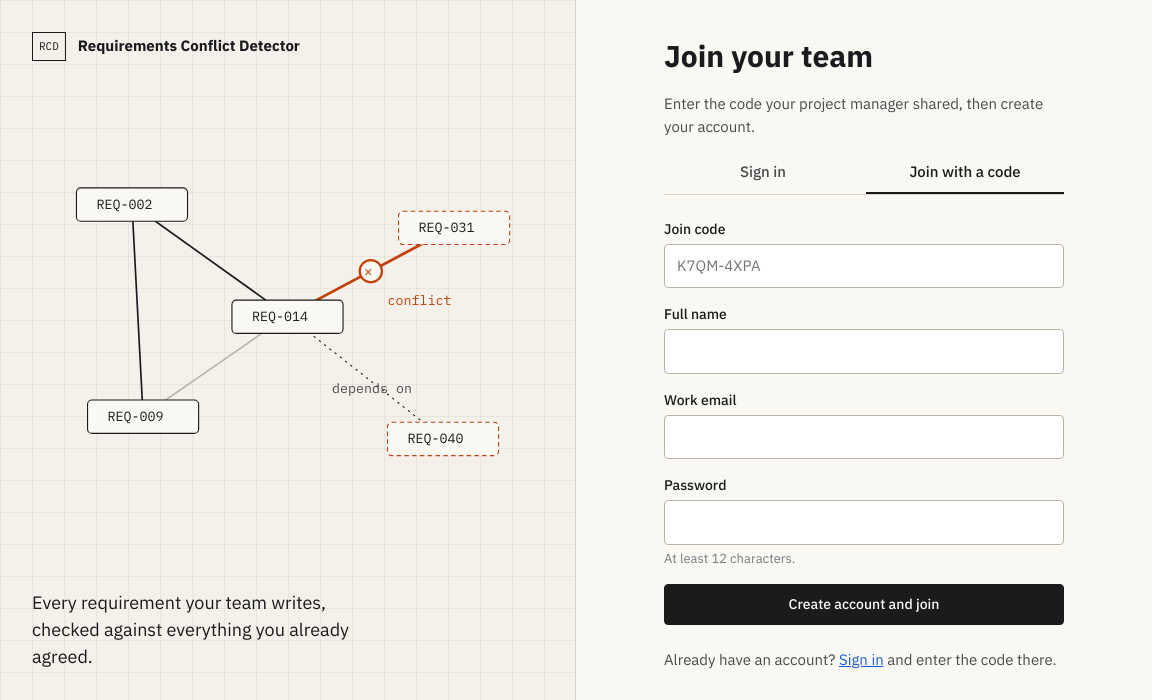
Test: SignupWithCodePage › shows the one refusal message for a bad code
This screenshot has width=1152, height=700.
Type "ZZZZ-ZZZZ" into the field labelled "Join code" at (864, 266), box [664,244,1064,288]
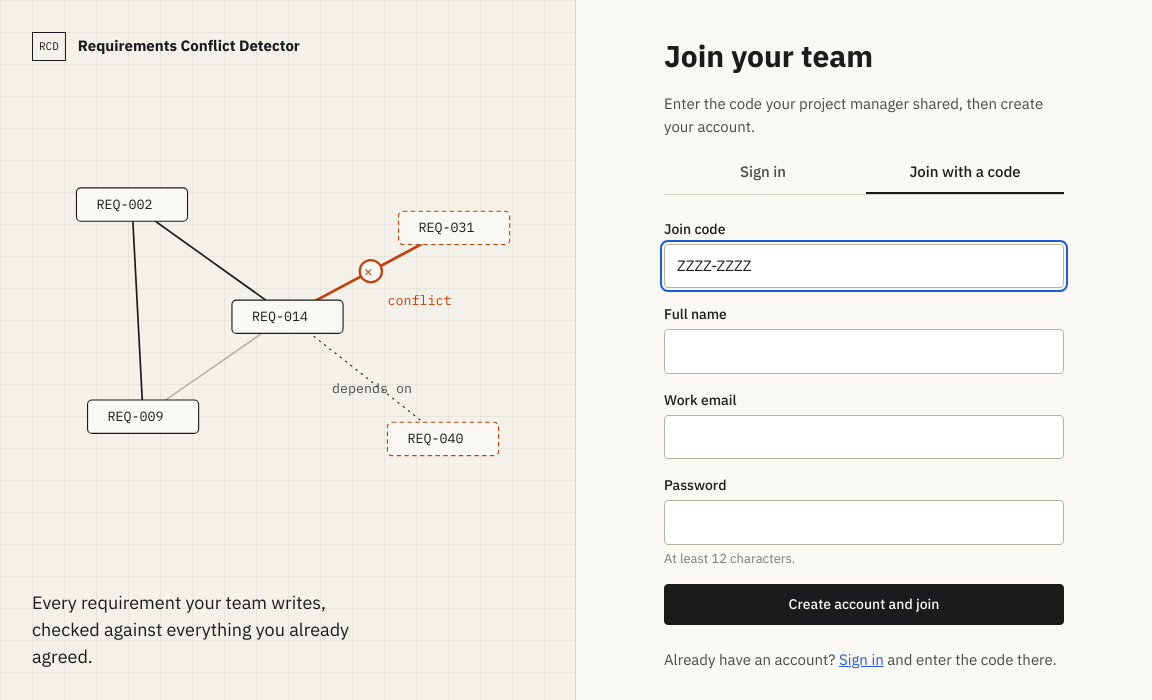
Type "N" into the field labelled "Full name" at (864, 352), box [664,329,1064,374]
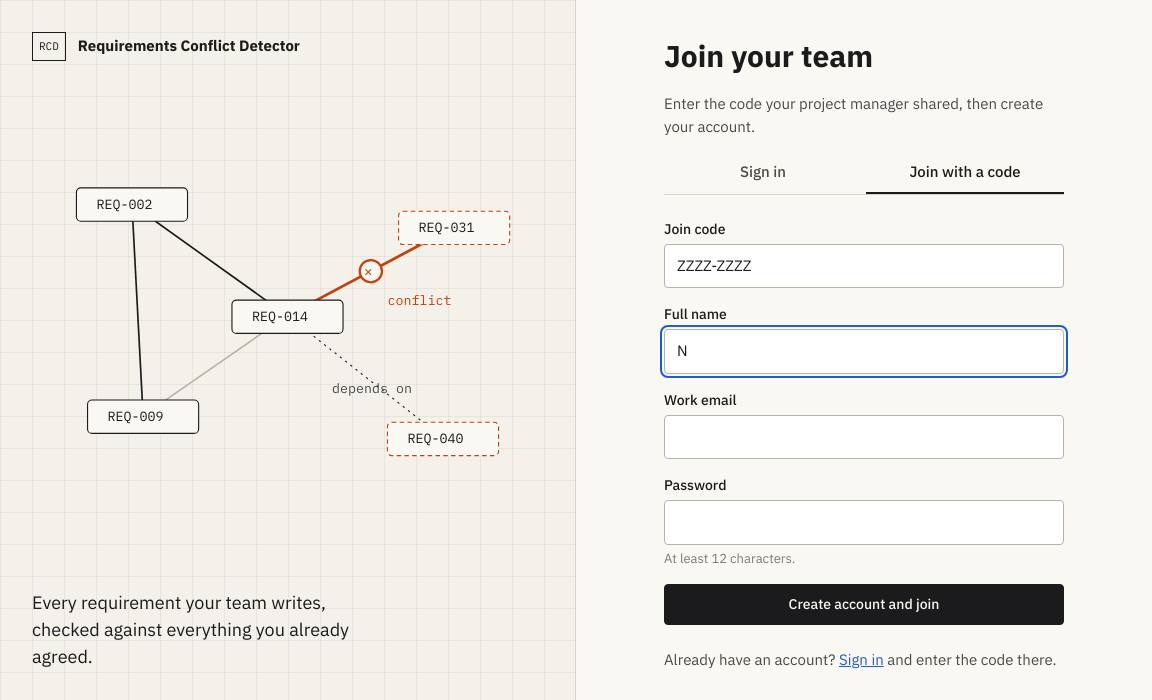
Type "n@acme.in" into the field labelled "Work email" at (864, 437), box [664,415,1064,459]
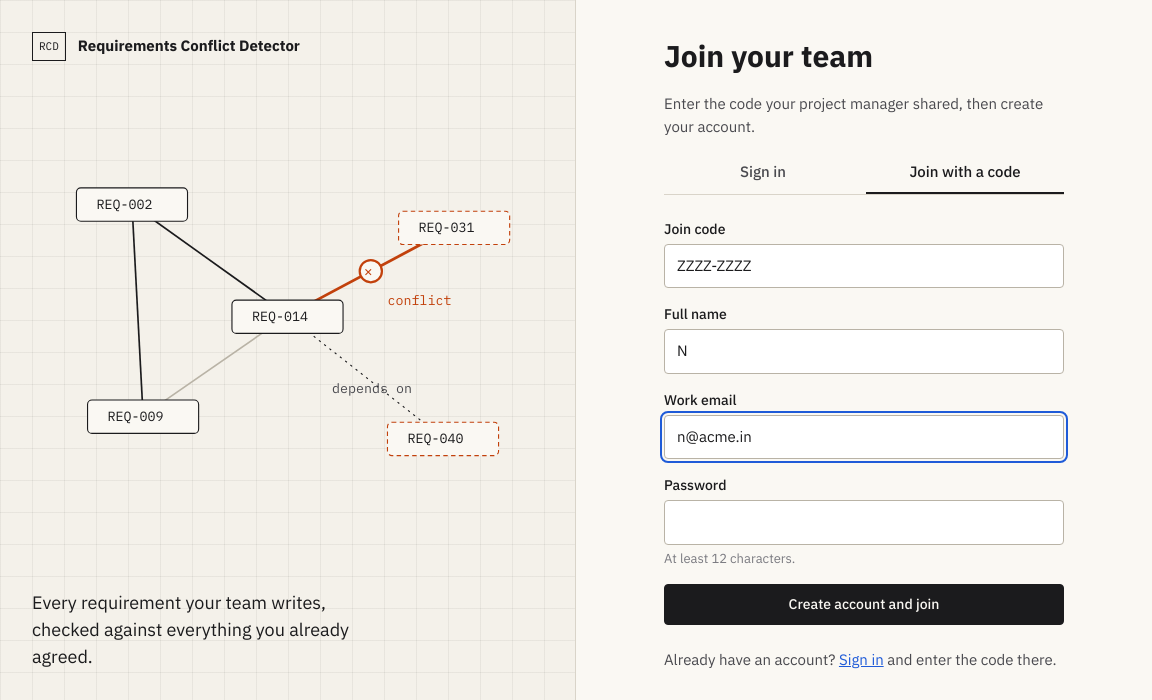
Type "correct-horse-battery" into the password field labelled "Password" at (864, 523), box [664,500,1064,545]
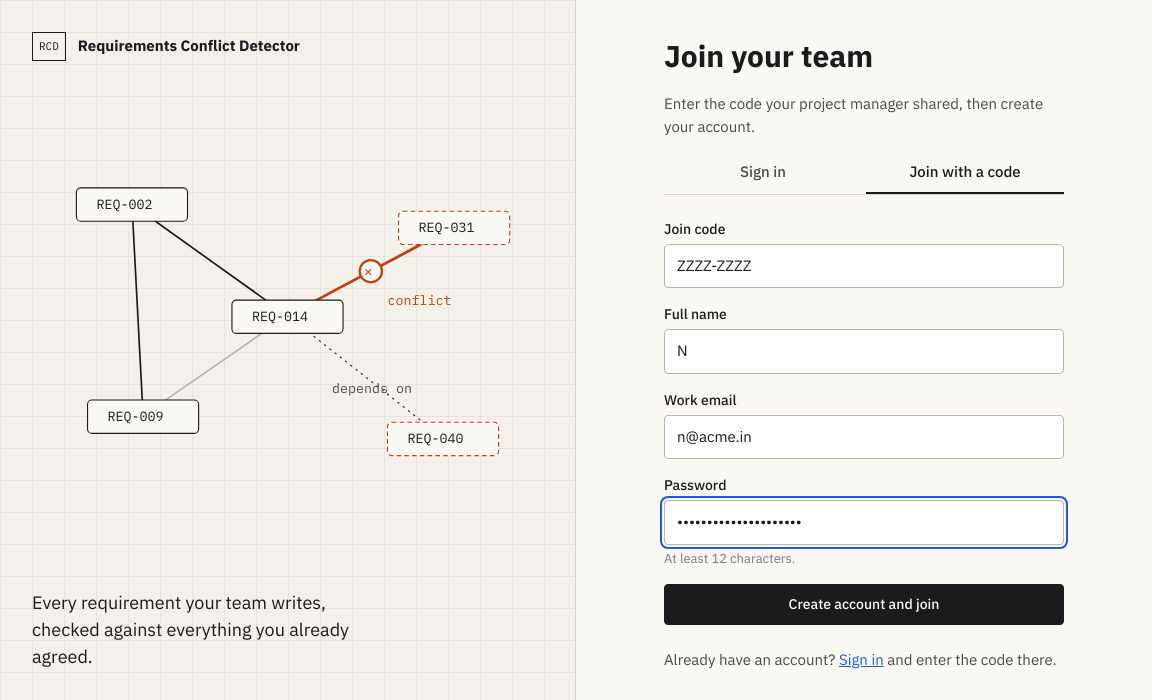
Click the button "Create account and join" at (864, 605), box [664,584,1064,625]
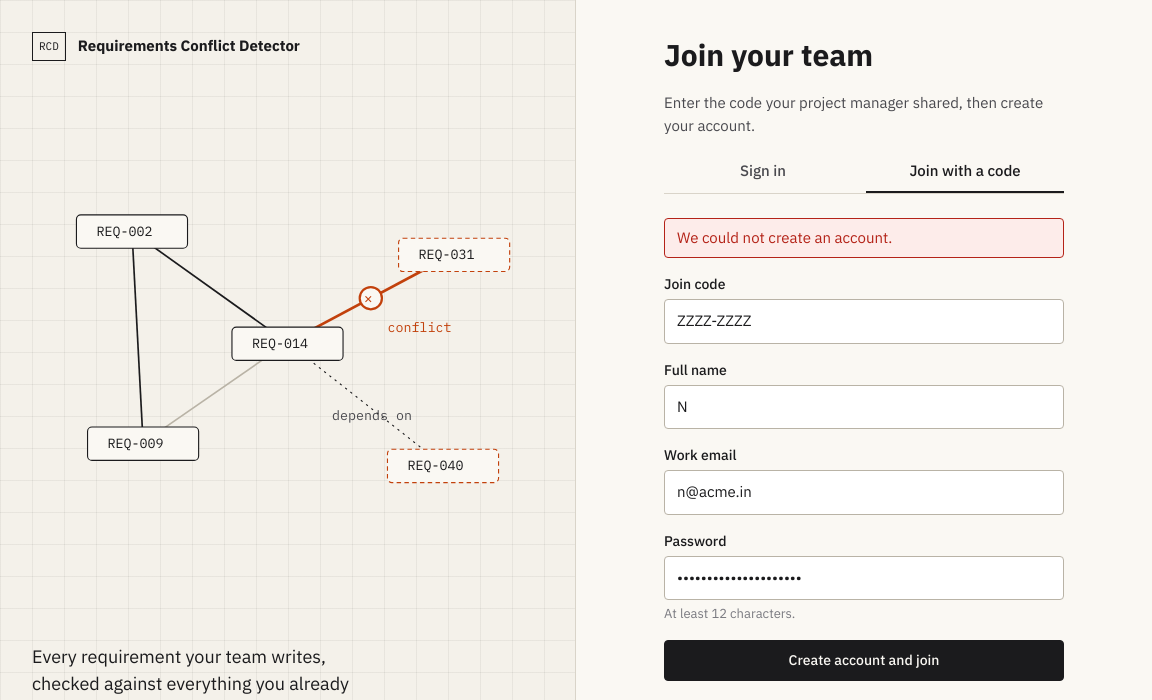
Expected: the message reads "We could not create an account.", [677,228,892,246]
